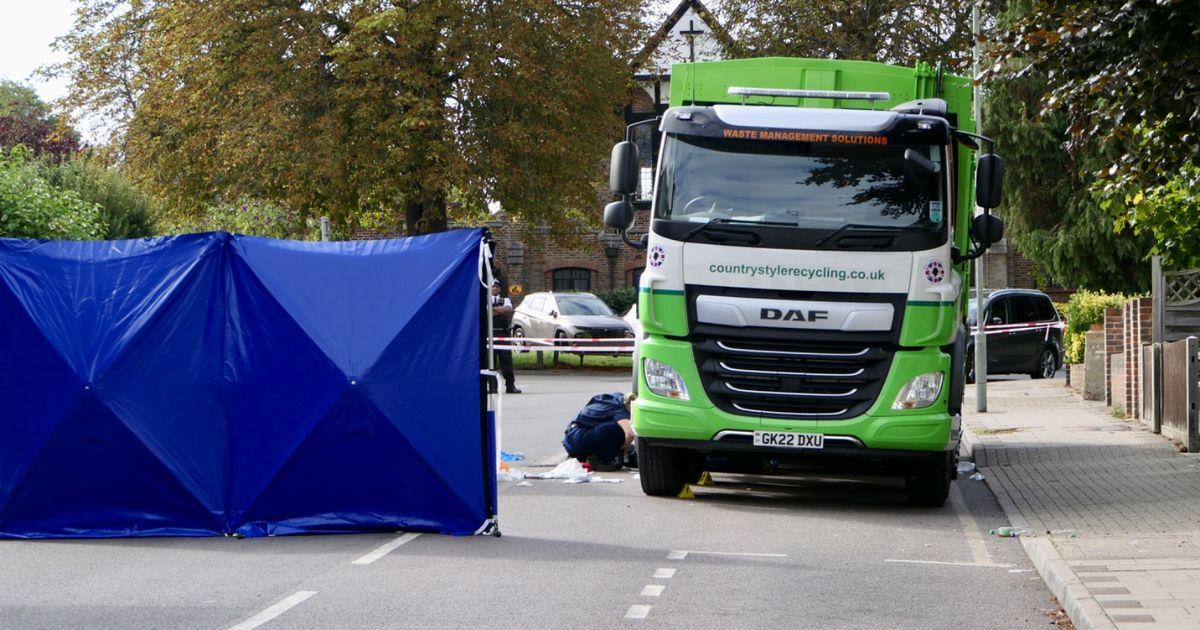car: (963, 288, 1068, 384), (513, 290, 635, 357)
truck: (605, 54, 1004, 511)
